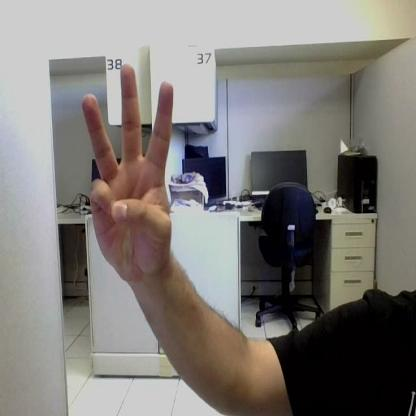W: (84, 63, 174, 279)
